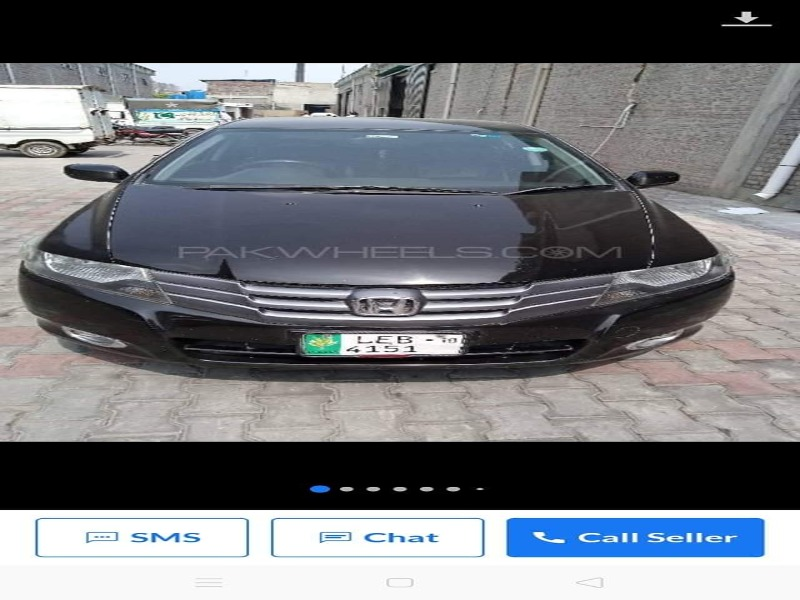License Plate: (296, 327, 474, 365)
